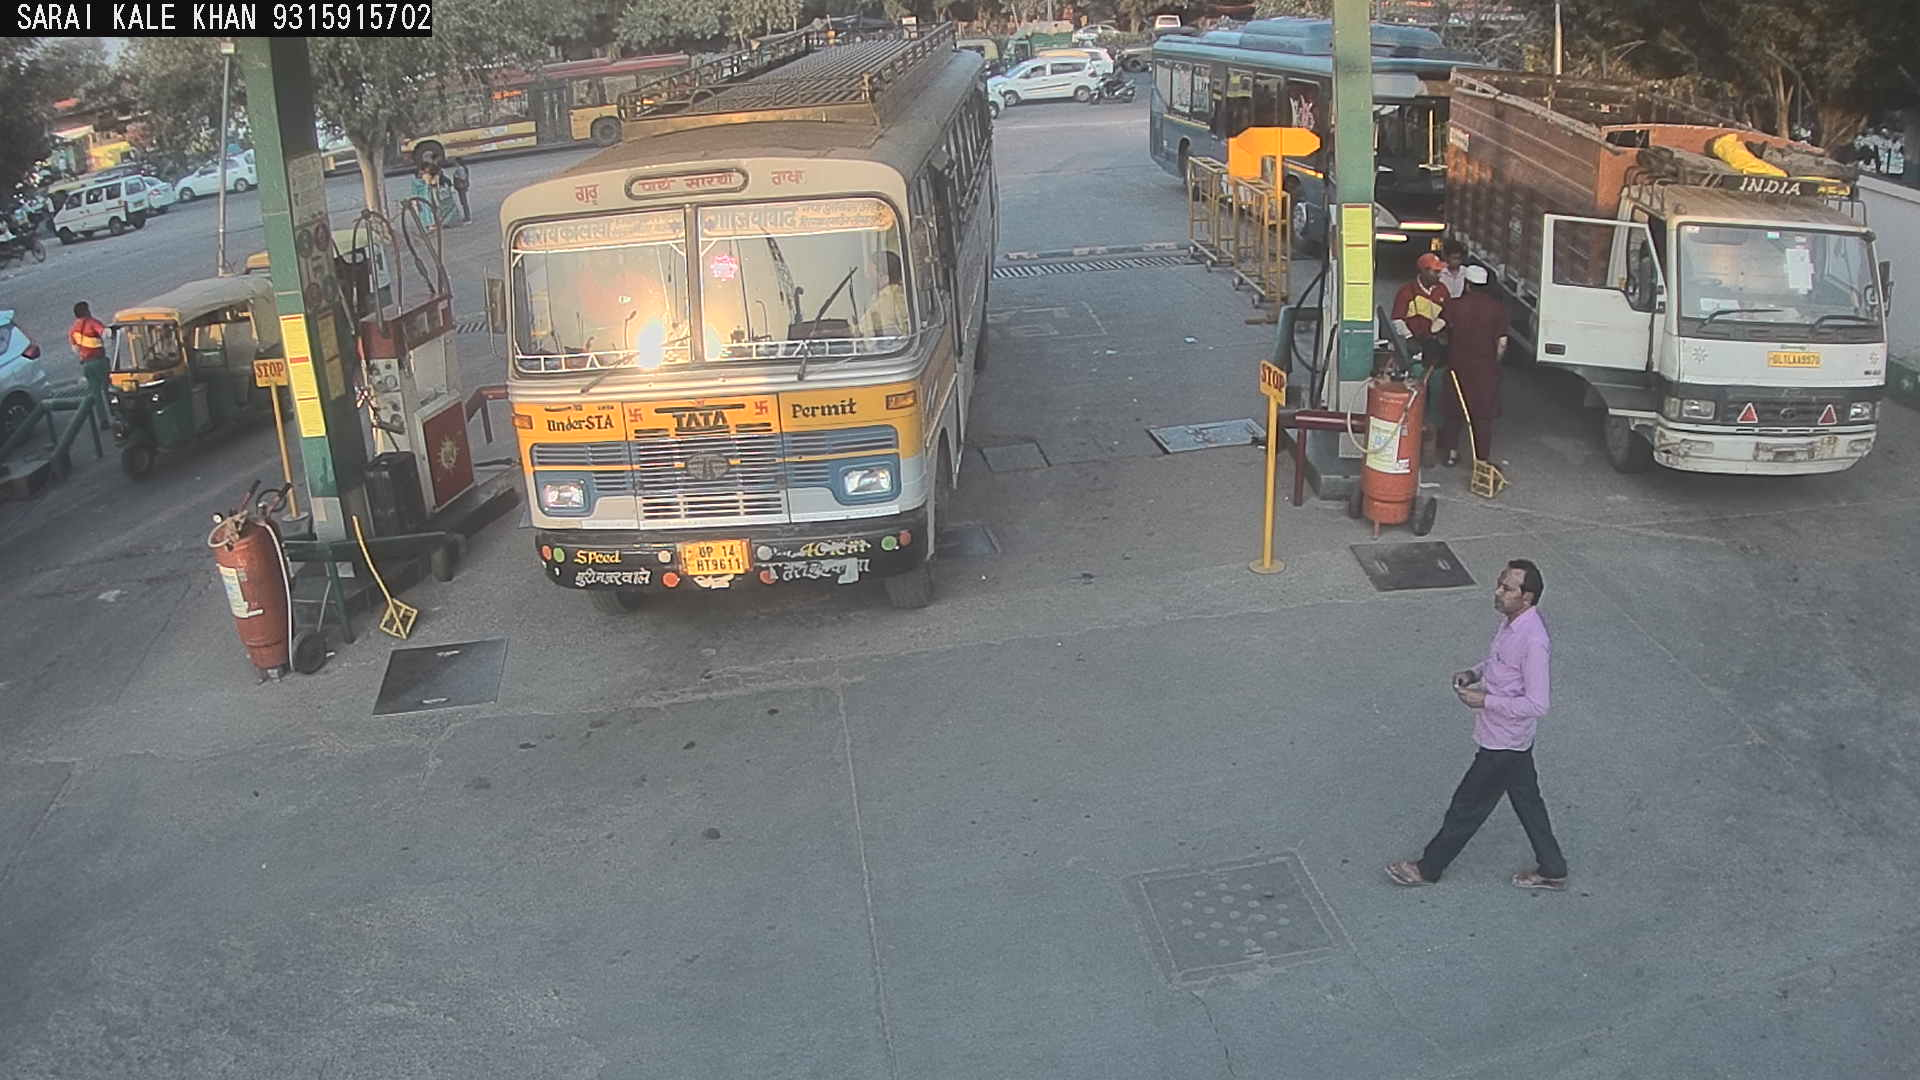Auto: (83, 252, 302, 483), (319, 206, 419, 344)
Car: (978, 44, 1121, 123), (0, 284, 57, 467), (46, 164, 169, 243), (164, 133, 274, 210)
HMV: (460, 0, 1019, 626), (1425, 38, 1912, 514), (1124, 3, 1367, 272), (365, 20, 731, 179)
Others: (1387, 243, 1473, 467), (61, 285, 121, 450)
Others Other: (1241, 352, 1303, 587), (251, 339, 314, 526)
